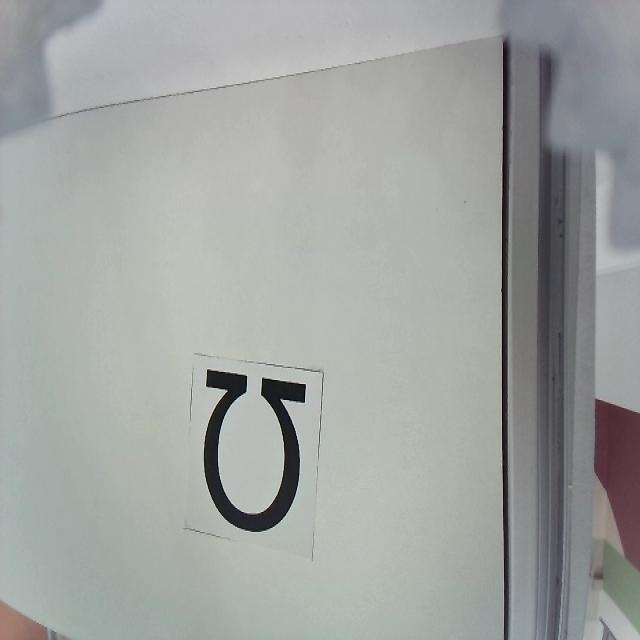OM: (205, 370, 309, 531)
